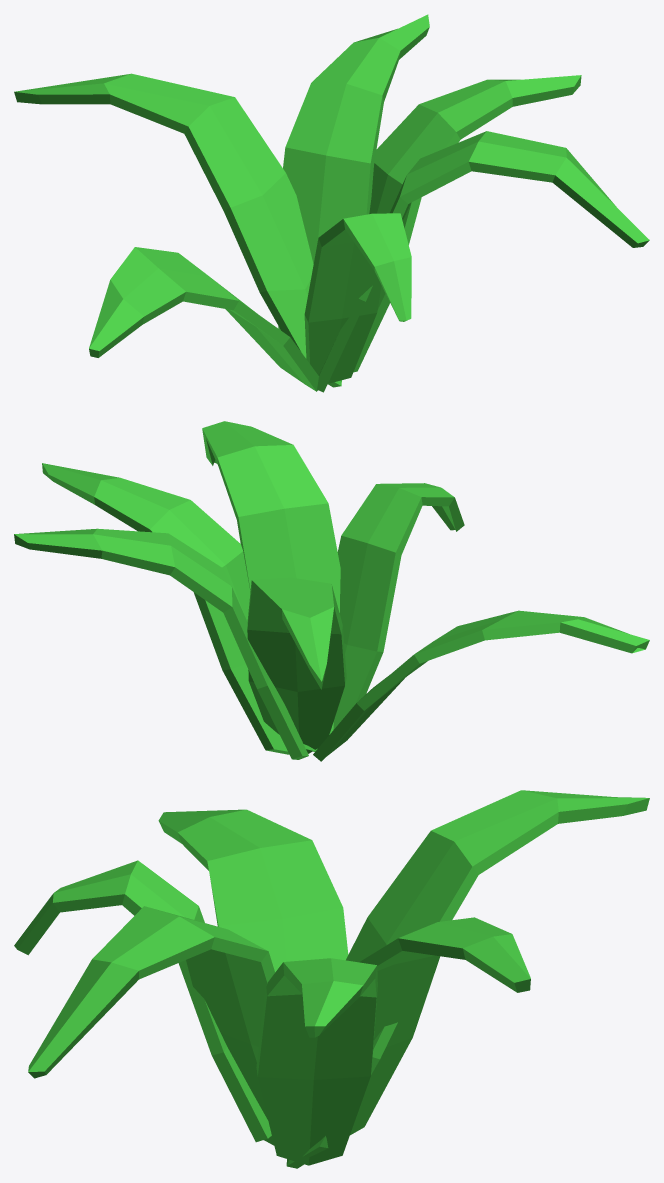
The model's file is GrassPoll5.fbx.
3 views of the same model, one above another, from view 1: azimuth 30°, elevation 25°; view 2: azimuth 150°, elevation 25°; view 3: azimuth 270°, elevation 25° (orthographic). The views are drawn at different scales.
Visible parts, largest first — view 1: GrassPoll.004; view 2: GrassPoll.004; view 3: GrassPoll.004.
Boxes of the visible parts, left/top/right/bottom form: GrassPoll.004: left=14, top=14, right=649, bottom=392; GrassPoll.004: left=14, top=421, right=649, bottom=761; GrassPoll.004: left=14, top=790, right=649, bottom=1168.
Size of the model in its own units: 274 by 122 by 228.
